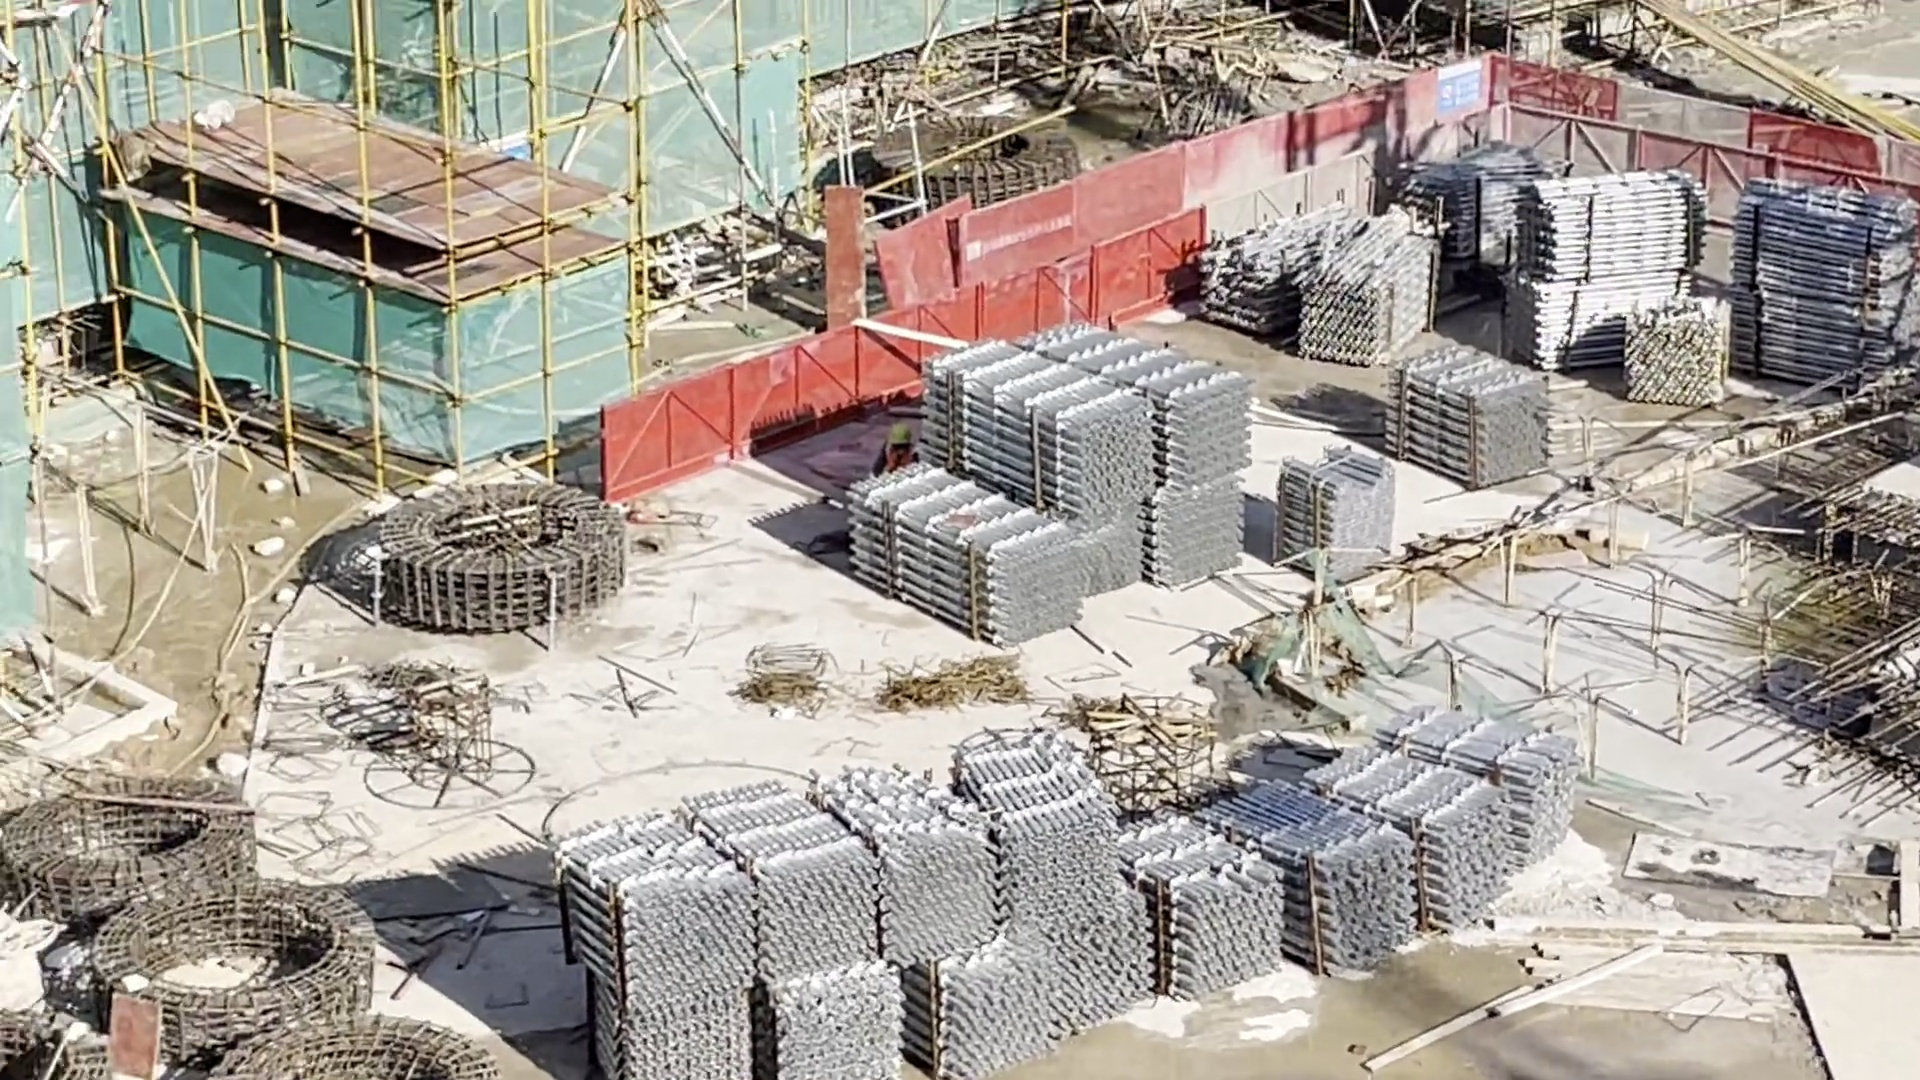fence: (597, 102, 1920, 500)
scaffold: (550, 709, 1586, 1080), (839, 320, 1255, 640), (1193, 179, 1432, 365), (1505, 164, 1706, 371), (1724, 171, 1920, 371), (1375, 353, 1564, 483), (1408, 146, 1549, 291), (1271, 440, 1390, 576), (1623, 295, 1724, 404)
